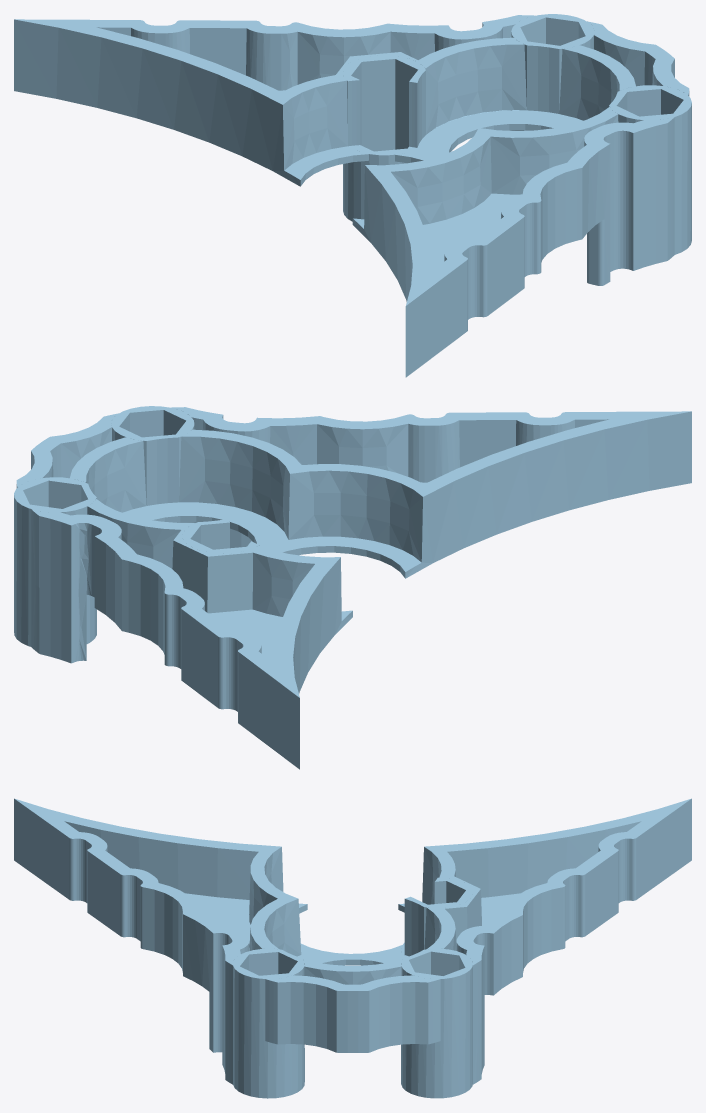
The model's file is BarbourSmith_Belt_Guard.glb.
3 views of the same model, one above another, from view 1: azimuth 30°, elevation 25°; view 2: azimuth 150°, elevation 25°; view 3: azimuth 270°, elevation 25° (orthographic). The views are drawn at different scales.
Parts seen in each view (by area): view 1: part-0, part-1, part-5, part-3; view 2: part-0, part-3, part-5, part-1; view 3: part-0, part-3, part-5, part-1.
Boxes of the visible parts, left/top/right/bottom form: part-0: left=14, top=15, right=689, bottom=377; part-1: left=343, top=55, right=426, bottom=221; part-5: left=609, top=85, right=691, bottom=254; part-3: left=511, top=14, right=594, bottom=130; part-0: left=16, top=407, right=691, bottom=769; part-3: left=14, top=477, right=96, bottom=646; part-5: left=111, top=406, right=194, bottom=522; part-1: left=182, top=519, right=259, bottom=553; part-0: left=14, top=798, right=691, bottom=1084; part-3: left=401, top=948, right=472, bottom=1098; part-5: left=233, top=948, right=304, bottom=1098; part-1: left=401, top=877, right=472, bottom=956.
Size of the model in its own units: 53.65 by 15.5 by 79.79.
